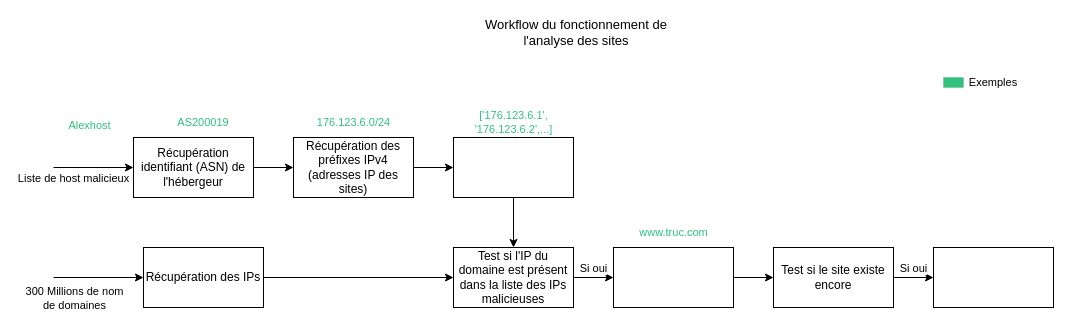
Image size: 1071x328. Some labels were removed from this diagram. Each missing label, with the centre of its shape:
Enregistre le domaine en base de données: the point at 993,277
Récupération du domaine associé: the point at 673,277
Stockage dans une liste: the point at 513,167
